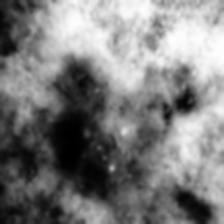Potentially Malignant Skin Tumors: (32, 40, 178, 206)
